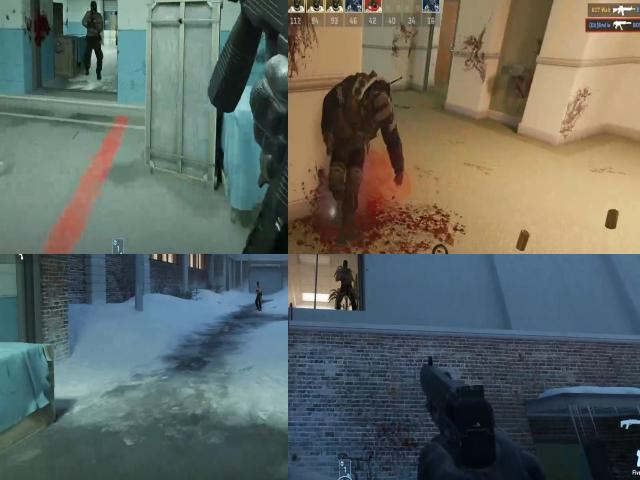Dead: (309, 69, 402, 211)
T: (85, 0, 101, 45), (337, 260, 355, 292), (253, 279, 264, 298)
T-Head: (88, 2, 100, 18), (342, 260, 350, 274), (254, 280, 263, 292)
